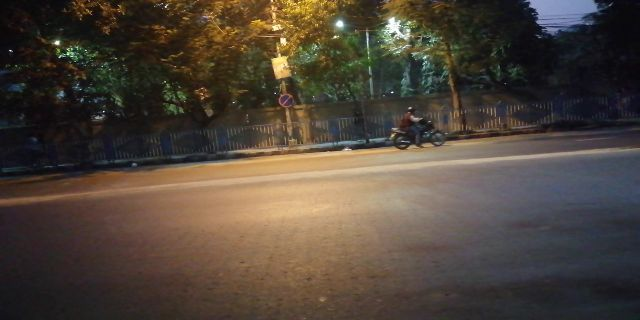Motorbike: (384, 107, 449, 149)
